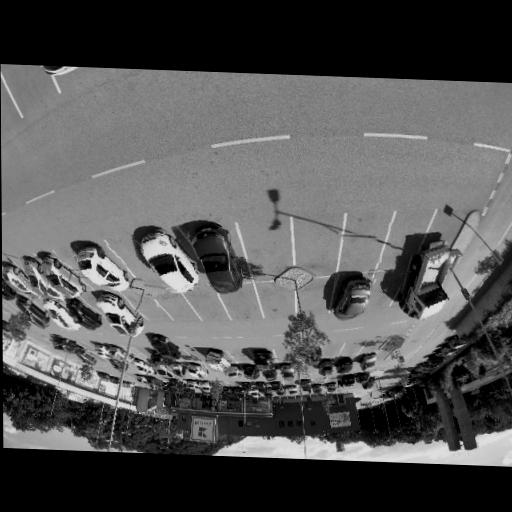busy: (396, 240, 459, 324), (135, 225, 199, 297), (188, 225, 242, 296), (77, 243, 129, 293), (32, 251, 82, 299), (332, 273, 378, 324), (96, 292, 141, 336), (17, 255, 51, 294), (67, 299, 102, 333), (3, 262, 35, 294), (44, 304, 75, 330), (149, 334, 179, 360), (49, 333, 82, 354), (204, 349, 231, 374), (251, 348, 274, 370), (357, 352, 379, 373), (334, 357, 355, 374), (110, 347, 132, 363), (186, 363, 206, 380), (319, 358, 337, 376), (279, 364, 299, 380), (226, 365, 244, 382), (242, 365, 260, 382), (262, 367, 281, 383), (133, 359, 150, 374), (342, 375, 360, 389), (297, 377, 312, 391)
free: (248, 225, 289, 265), (297, 221, 339, 258), (344, 228, 381, 268), (390, 220, 422, 256), (5, 66, 44, 91), (301, 283, 329, 311), (263, 288, 293, 313), (227, 294, 257, 315), (369, 280, 393, 303), (196, 297, 222, 318), (136, 299, 159, 317), (363, 336, 384, 355), (76, 336, 97, 353), (132, 347, 153, 363), (167, 302, 190, 316), (191, 347, 209, 361), (323, 341, 340, 355), (343, 344, 358, 356), (277, 349, 291, 360), (233, 350, 247, 359)
